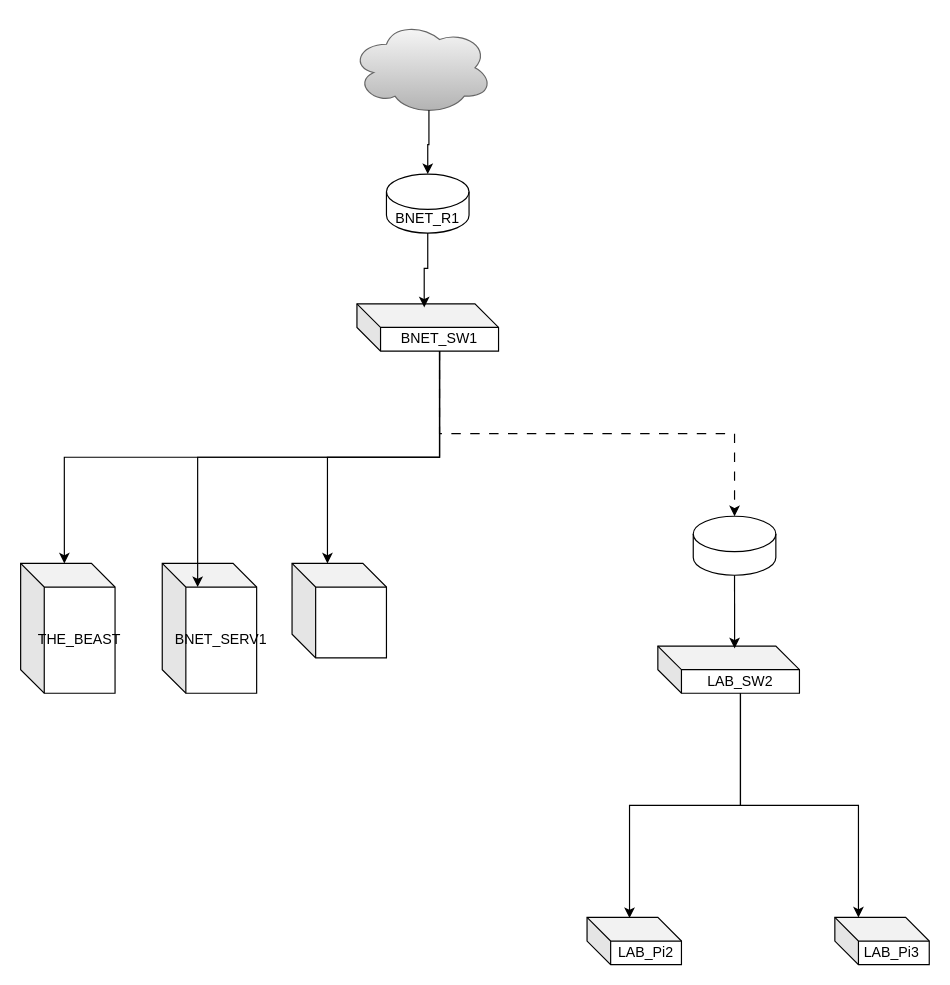
Some shapes in this 950 by 985 pixel diagram are drawn without their labels. Here are the shapes that lost their labels. From the top down, the centre of each, then its label:
At point 421,67: "WAN".
At point 734,545: "LAB_R2".
At point 338,610: "BNET_ NAS".
